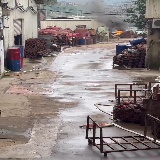fire: (114, 30, 123, 35)
